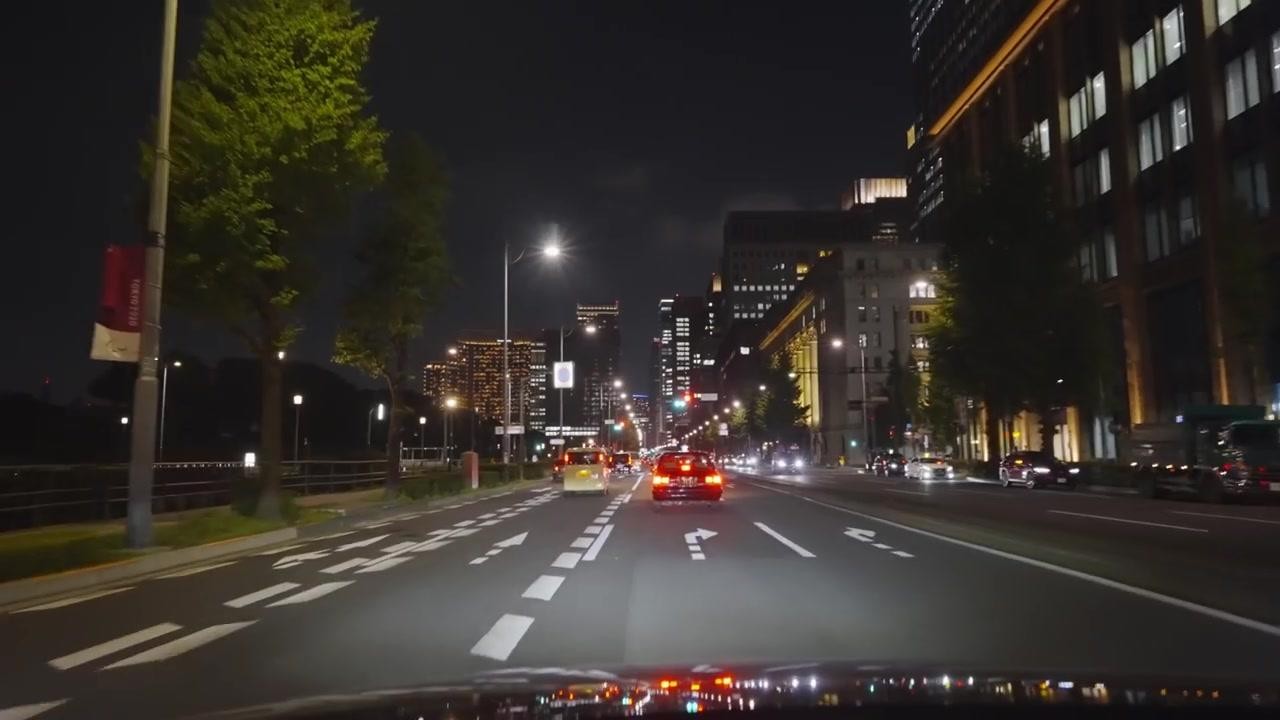bus: (559, 447, 609, 496)
car: (1123, 411, 1269, 503), (1219, 419, 1279, 502), (651, 453, 724, 503), (998, 450, 1078, 489), (559, 446, 609, 496), (910, 453, 956, 480), (877, 451, 908, 477), (772, 452, 806, 473)
traffic light: (672, 395, 688, 413), (684, 394, 695, 409)
